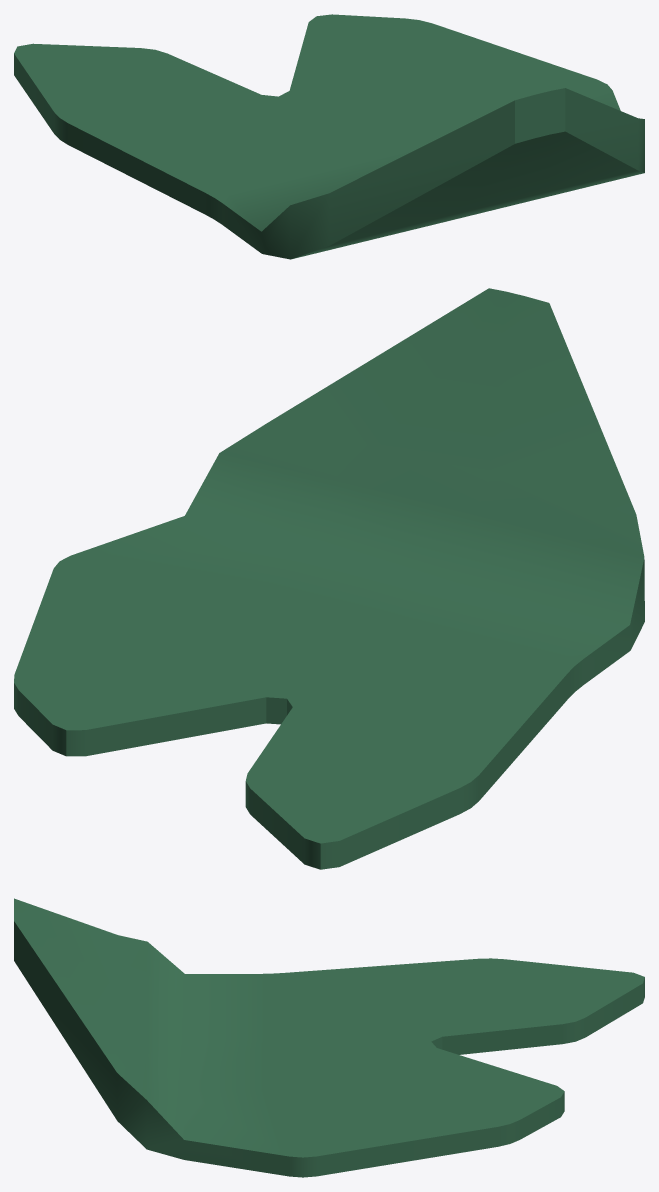
Rendered from Spilled Drink Model.fbx.
3 views of the same model, one above another, from view 1: azimuth 30°, elevation 25°; view 2: azimuth 150°, elevation 25°; view 3: azimuth 270°, elevation 25° (orthographic). The views are drawn at different scales.
Visible parts, largest first — view 1: Spilled_Drink; view 2: Spilled_Drink; view 3: Spilled_Drink.
Boxes of the visible parts, x1=… form: Spilled_Drink: x1=14, y1=14, x2=644, y2=259; Spilled_Drink: x1=14, y1=288, x2=644, y2=869; Spilled_Drink: x1=14, y1=898, x2=644, y2=1177.
Bounding box in the file's own units: 1.95 × 0.7677 × 2.61.
1 material, 1 textured.
